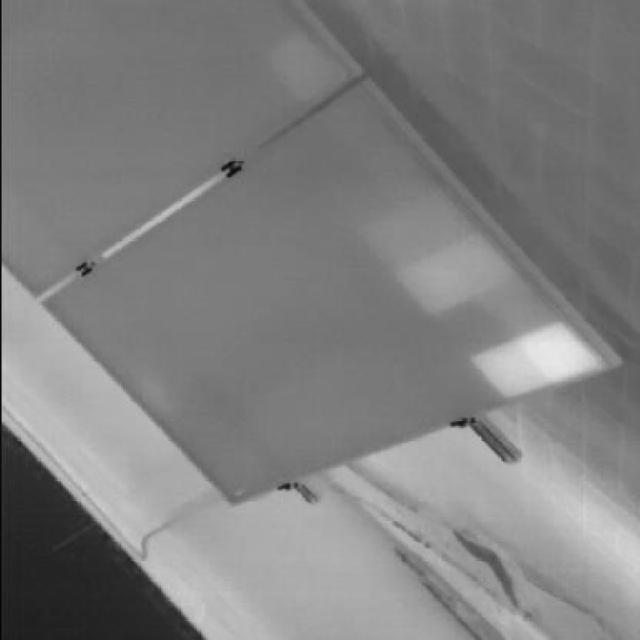hotspot: (394, 199, 517, 319), (471, 310, 600, 402)
